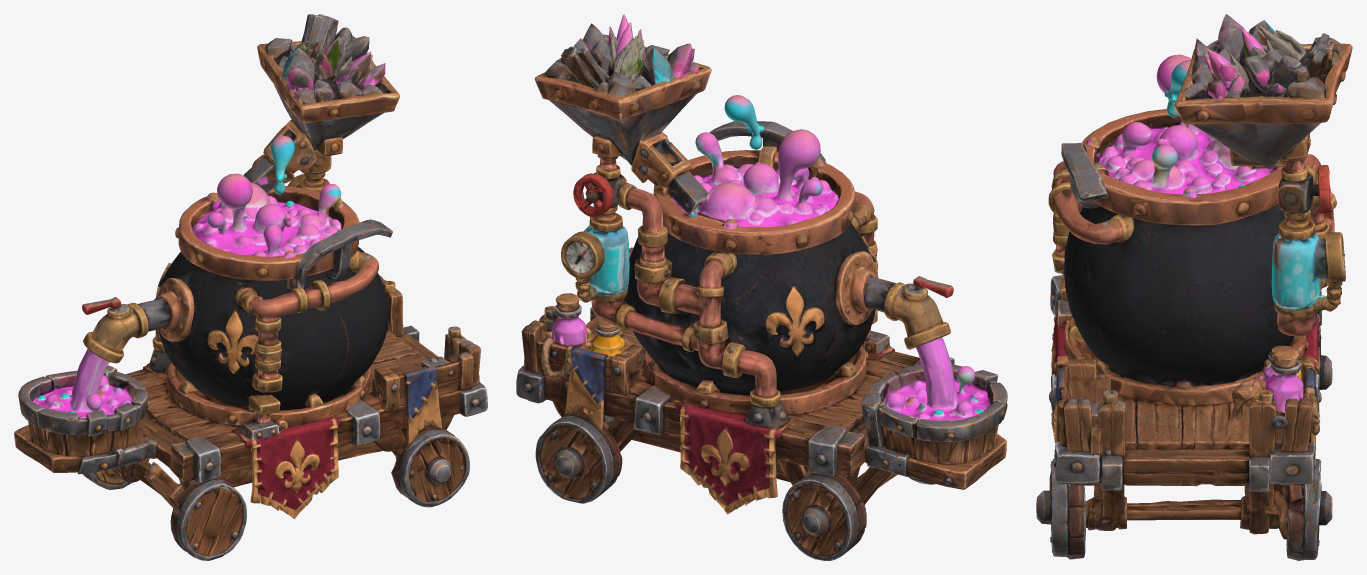
File: sludge_cauldron.glb
3 renders of one model, left to right at view 1: azimuth 30°, elevation 25°; view 2: azimuth 150°, elevation 25°; view 3: azimuth 270°, elevation 25°, orthographic. The views are drawn at different scales.
Bounding box in the file's own units: 1.9 × 1.86 × 1.04.
1 material, 1 textured.
